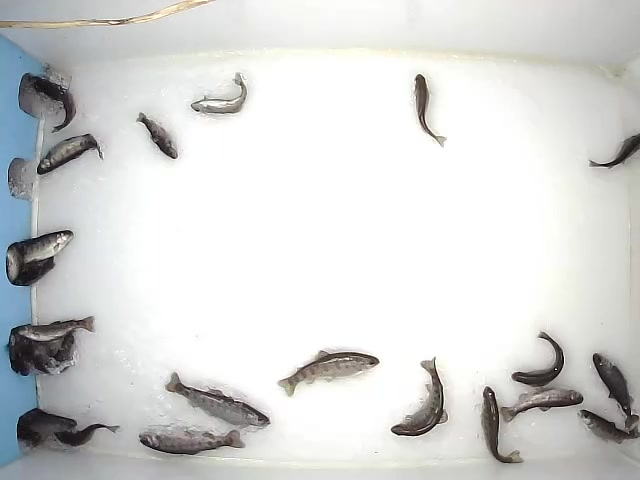fish: (162, 368, 272, 430), (275, 349, 379, 398), (388, 355, 448, 437), (479, 383, 525, 465), (136, 424, 247, 457), (592, 350, 637, 428), (508, 329, 566, 388), (499, 385, 584, 425), (33, 132, 103, 174), (28, 74, 77, 134), (411, 72, 448, 148), (189, 71, 247, 117), (7, 229, 74, 267), (134, 110, 180, 161), (577, 408, 640, 445), (13, 314, 96, 342), (585, 131, 639, 169), (45, 420, 119, 447)
